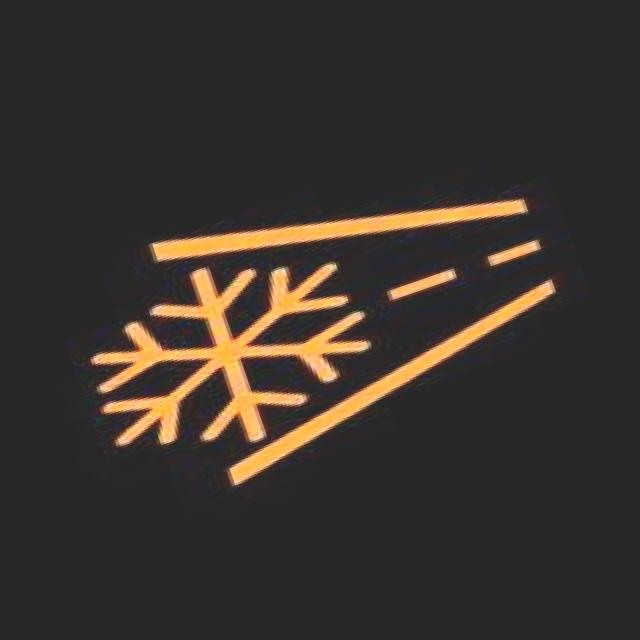kontrolka: (4, 68, 639, 600)
